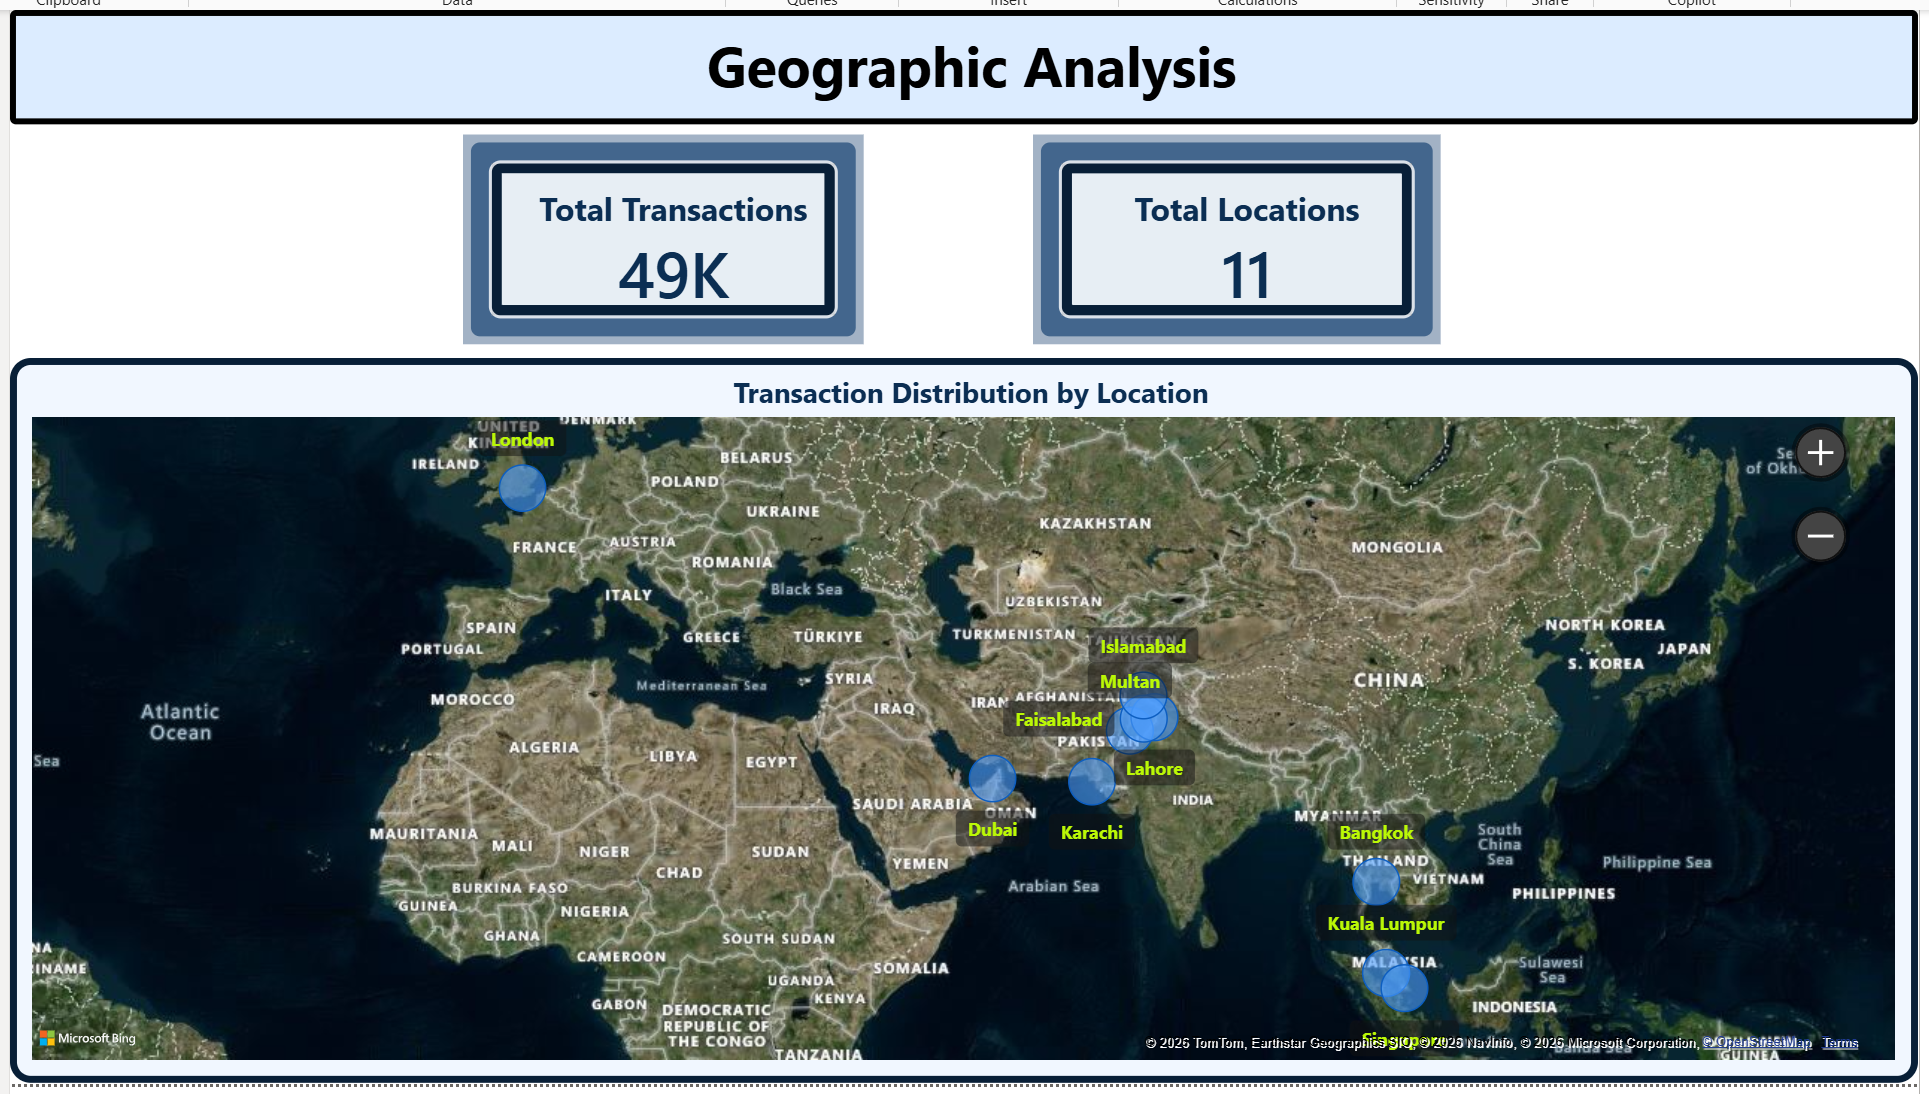

The dashboard page shown, as its layout file describes it:
{"tool":"powerbi","page":{"name":" Geographic Analysis","canvas":[1280,720],"ordinal":6},"visuals":[{"type":"textbox","box":[0,0,1279.5,76.7],"z":0},{"type":"cardVisual","fields":{"Data":["FactTransactions.Total Transactions"]},"box":[303.7,83.5,268.5,140.8],"z":1000},{"type":"cardVisual","fields":{"Data":["FactTransactions.Total Locations"]},"box":[685.9,83.5,273.6,140.8],"z":2000},{"type":"map","title":"Transaction Distribution by Location","fields":{"Category":["FactTransactions.Transaction_Location"],"Size":["FactTransactions.Total Transactions"]},"box":[0,233.3,1279.3,485.8],"z":3000}]}

Visuals, with their boxes in screenshot pixels (x1, y1, x2, y2):
textbox: [x1=5, y1=5, x2=1907, y2=119]
cardVisual - FactTransactions.Total Transactions: [x1=456, y1=129, x2=855, y2=338]
cardVisual - FactTransactions.Total Locations: [x1=1024, y1=129, x2=1431, y2=338]
"Transaction Distribution by Location" map: [x1=5, y1=352, x2=1906, y2=1074]
